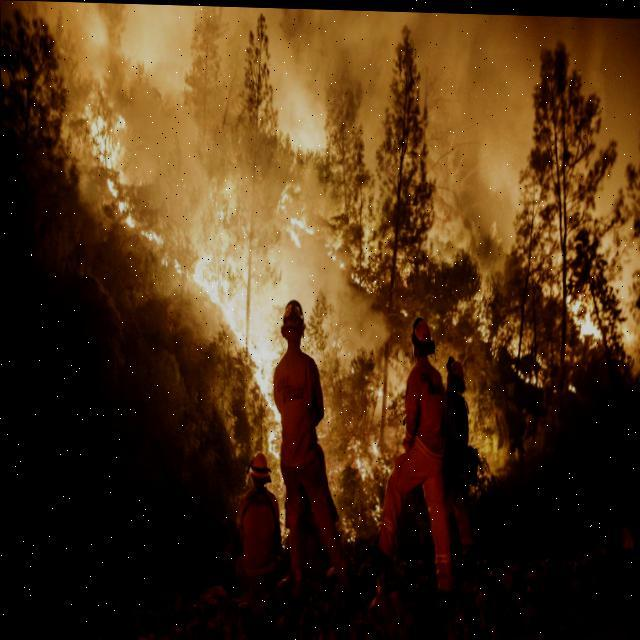Fire: (82, 97, 414, 538), (557, 274, 618, 352)
